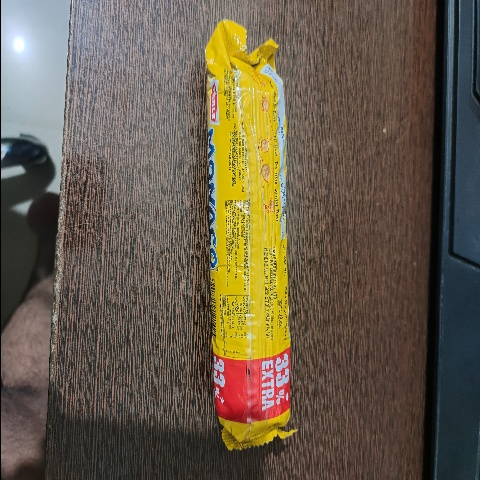monaco: (167, 14, 309, 442)
